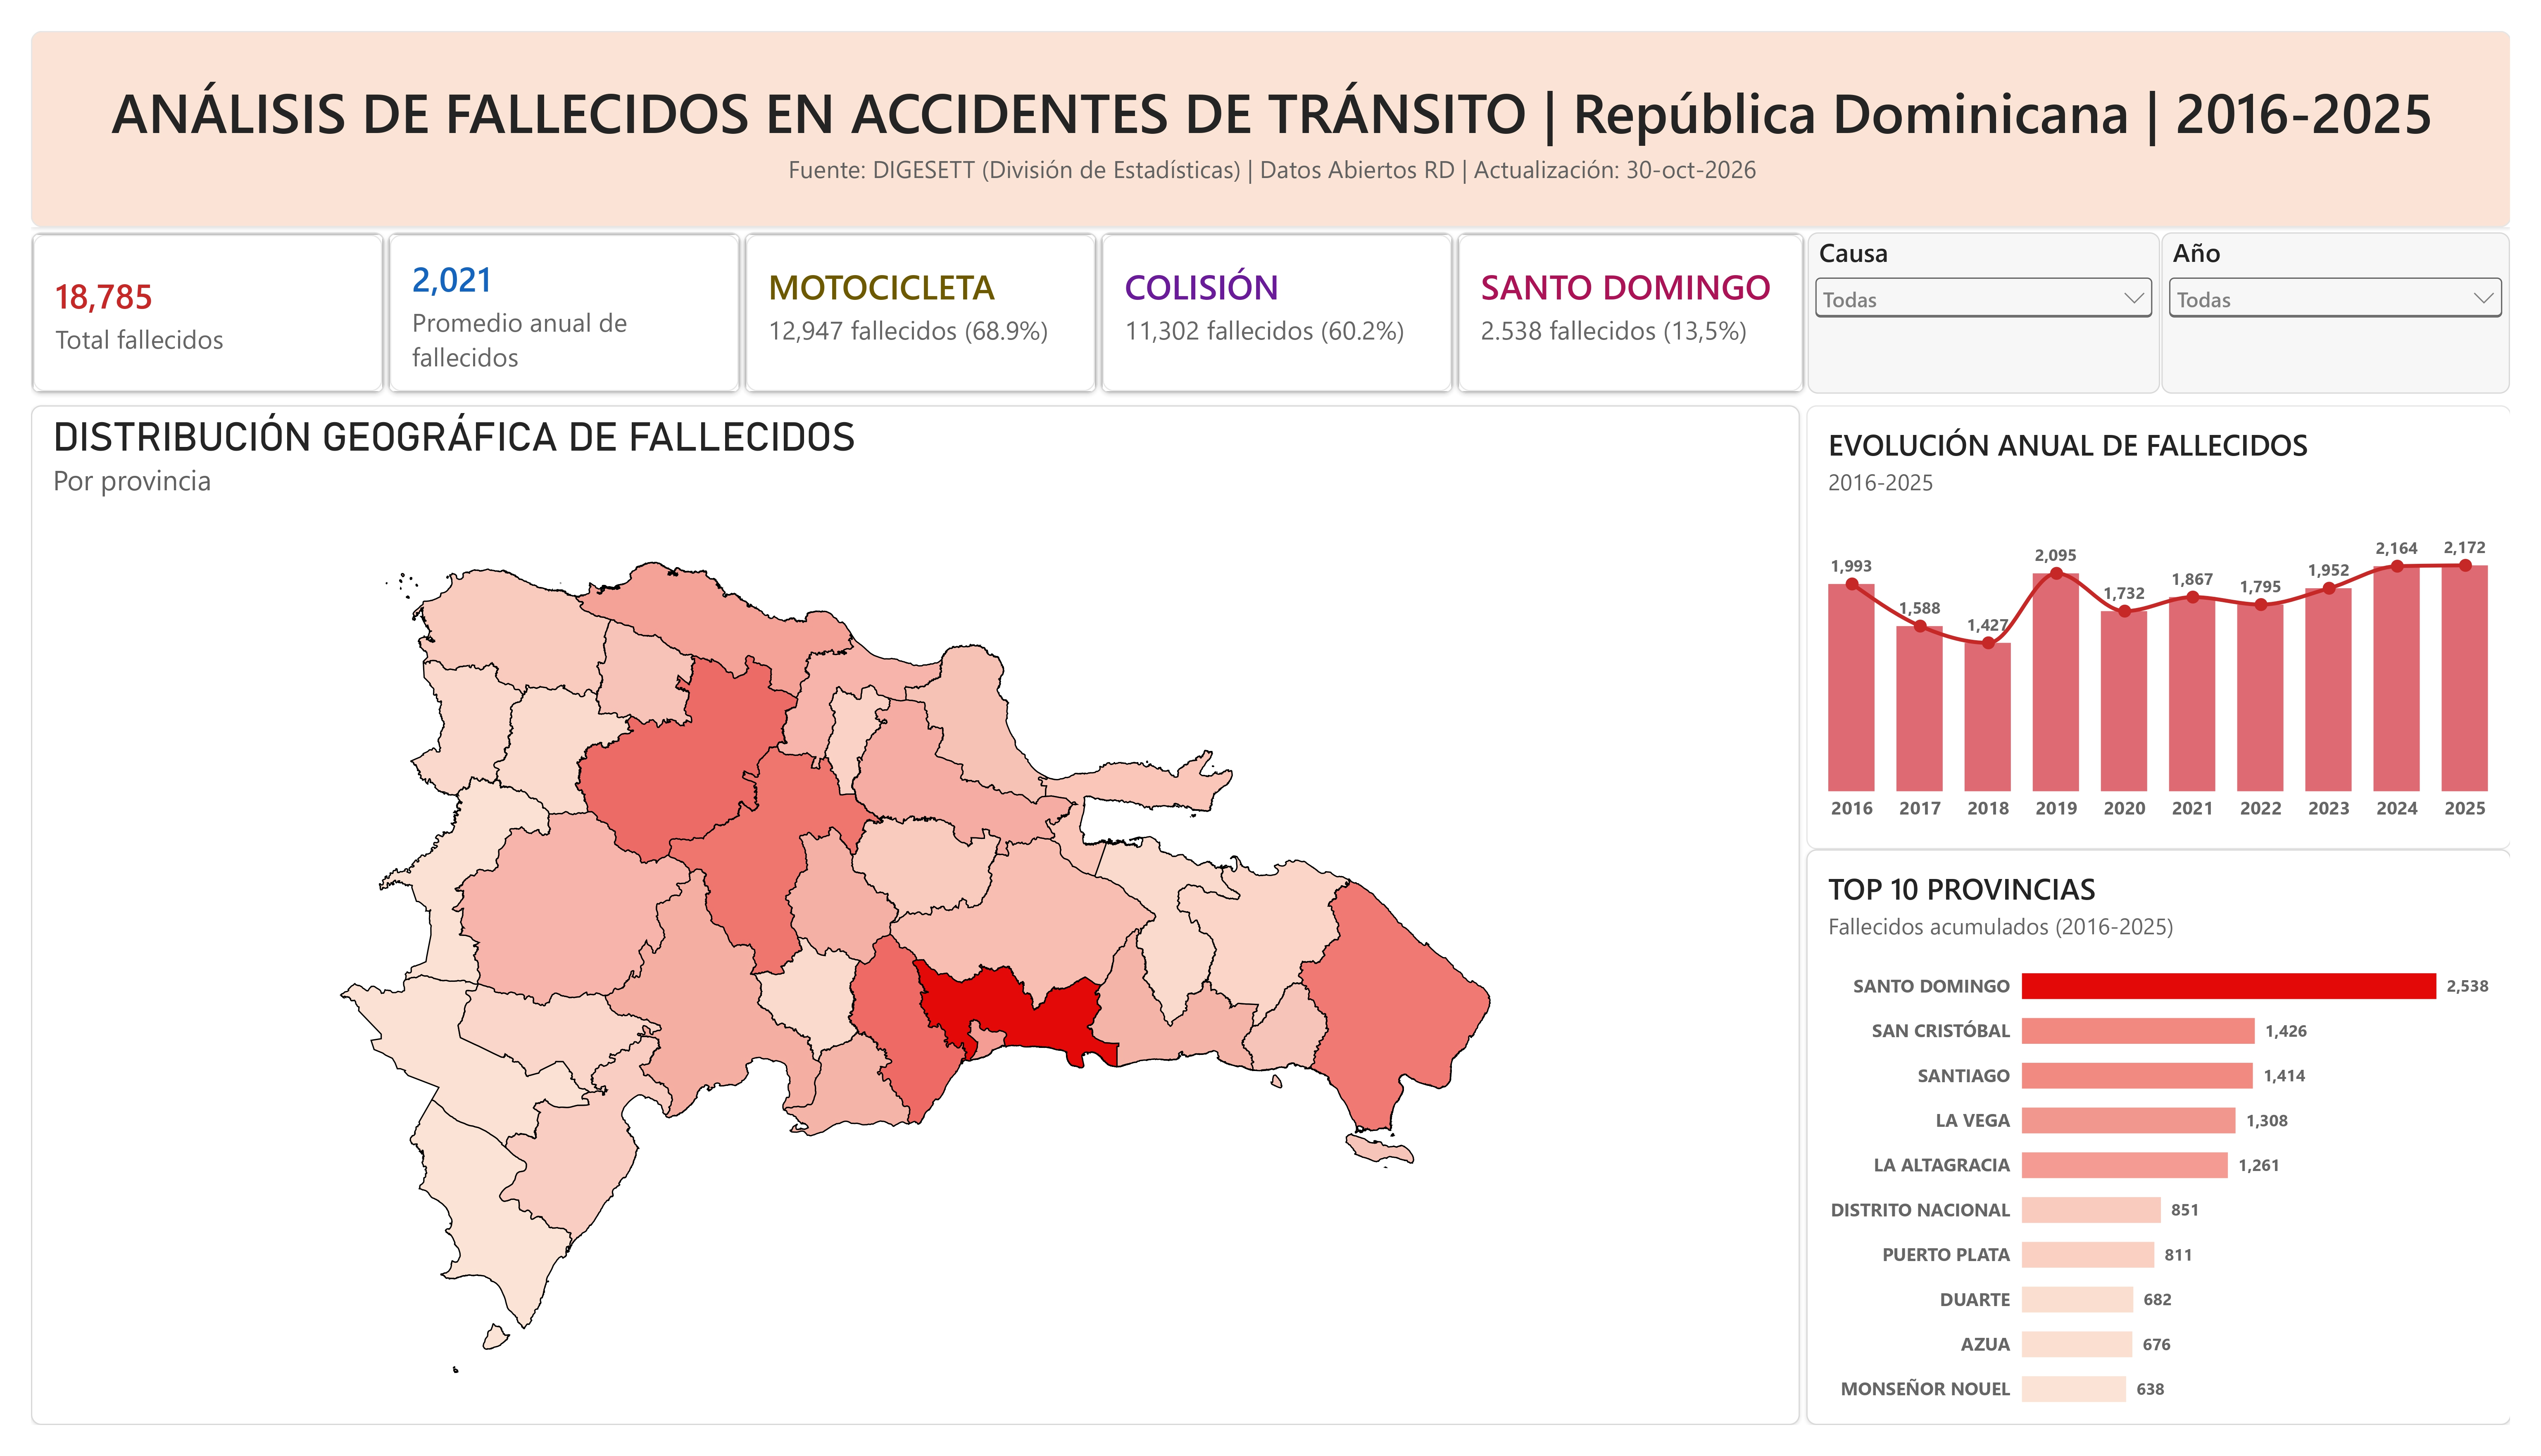

Layout of this report page (visuals, bound fields, positions):
{"tool":"powerbi","page":{"name":"Resumen Ejecutivo","canvas":[1920,1080],"ordinal":0},"visuals":[{"type":"shapeMap","title":"DISTRIBUCIÓN GEOGRÁFICA DE FALLECIDOS","fields":{"Category":["Provincia 2016-2025.PROVINCIA"],"Value":["Sum(Provincia 2016-2025.FALLECIDOS)"]},"box":[0,290,1370,790],"z":0},{"type":"cardVisual","fields":{"Data":["Provincia 2016-2025.Total Fallecidos"]},"box":[0,155.6,274,125],"z":1000},{"type":"cardVisual","fields":{"Data":["Provincia 2016-2025.Promedio anual de fallecidos"]},"box":[276,155.6,274,125],"z":2000},{"type":"cardVisual","fields":{"Data":["Provincia 2016-2025.Titulo"]},"box":[0,0,1920.6,151.6],"z":3000},{"type":"lineClusteredColumnComboChart","title":"EVOLUCIÓN ANUAL DE FALLECIDOS","fields":{"Category":["Provincia 2016-2025.AÑO"],"Y":["Sum(Provincia 2016-2025.FALLECIDOS)"],"Y2":["Provincia 2016-2025.Total fallecidos"]},"box":[1375.3,290,545.3,344.5],"z":4000},{"type":"clusteredBarChart","title":"TOP 10 PROVINCIAS","fields":{"Category":["Provincia 2016-2025.PROVINCIA"],"Y":["Sum(Provincia 2016-2025.FALLECIDOS)"]},"box":[1375.3,634.4,545.3,445.6],"z":5000},{"type":"cardVisual","fields":{"Data":["Provincia 2016-2025.Provincia con menos probabilidad de accidente"]},"box":[1104,155.6,270,125],"z":6000},{"type":"cardVisual","title":"Transporte Principal","fields":{"Data":["Medio de Transporte 2016-2025.Medio de transporte más fatal"]},"box":[552,155.6,274,125],"z":7000},{"type":"cardVisual","fields":{"Data":["Tipo de Accidentes 2016-2025.Tipo Accidente Principal"]},"box":[828,155.6,274,125],"z":8000},{"type":"slicer","fields":{"Values":["Tipo de Accidentes 2016-2025.TIPO DE ACCIDENTE"]},"box":[1375.9,155.6,272.7,125],"z":9000},{"type":"slicer","fields":{"Values":["Provincia 2016-2025.AÑO"]},"box":[1650,155.6,270,125],"z":10000}]}

Visuals, with their boxes on the page's 1920x1080 design canvas (x1, y1, x2, y2). These are canvas units, not pixel positions in the 2541x1456 screenshot, which may show the page scaled, cropped or inside an application window:
"DISTRIBUCIÓN GEOGRÁFICA DE FALLECIDOS" shapeMap: 0, 290, 1370, 1080
cardVisual - Provincia 2016-2025.Total Fallecidos: 0, 156, 274, 281
cardVisual - Provincia 2016-2025.Promedio anual de fallecidos: 276, 156, 550, 281
cardVisual - Provincia 2016-2025.Titulo: 0, 0, 1921, 152
"EVOLUCIÓN ANUAL DE FALLECIDOS" lineClusteredColumnComboChart: 1375, 290, 1921, 634
"TOP 10 PROVINCIAS" clusteredBarChart: 1375, 634, 1921, 1080
cardVisual - Provincia 2016-2025.Provincia con menos probabilidad de accidente: 1104, 156, 1374, 281
"Transporte Principal" cardVisual: 552, 156, 826, 281
cardVisual - Tipo de Accidentes 2016-2025.Tipo Accidente Principal: 828, 156, 1102, 281
slicer - Tipo de Accidentes 2016-2025.TIPO DE ACCIDENTE: 1376, 156, 1649, 281
slicer - Provincia 2016-2025.AÑO: 1650, 156, 1920, 281
